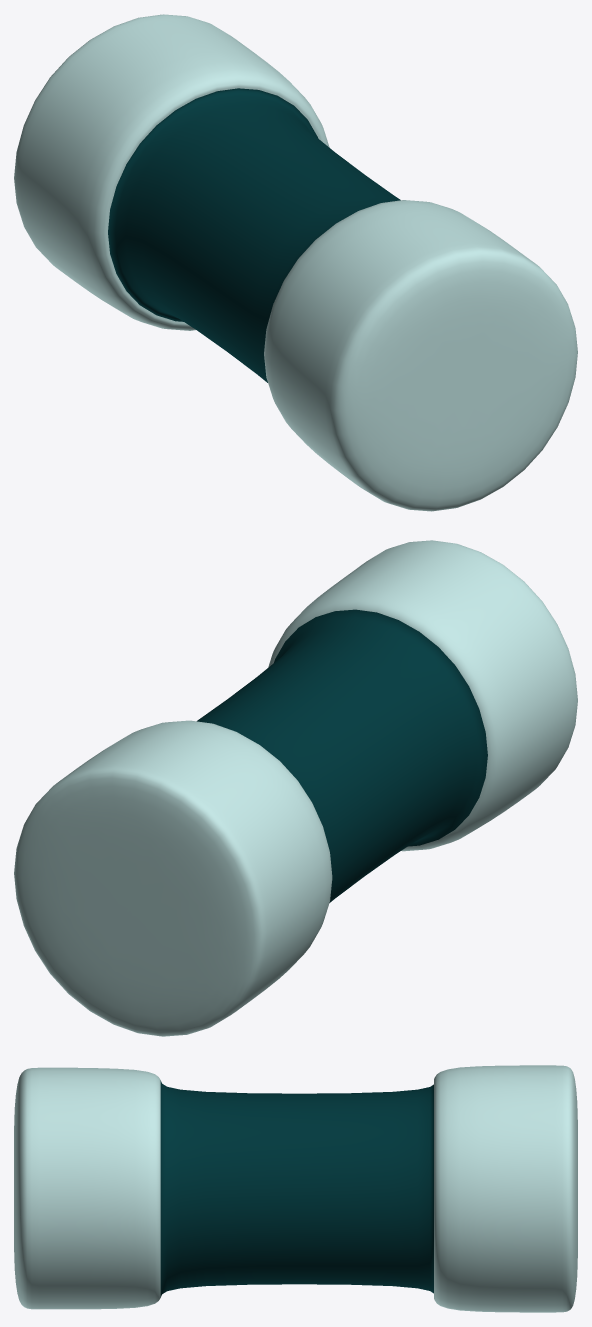
Rendered from robot_06.fbx.
3 views of the same model, one above another, from view 1: azimuth 30°, elevation 25°; view 2: azimuth 150°, elevation 25°; view 3: azimuth 270°, elevation 25° (orthographic). The views are drawn at different scales.
Parts seen in each view (by area): view 1: pCylinder11; view 2: pCylinder11; view 3: pCylinder11.
Part boxes in pixels (x1,y1,x2,y2): pCylinder11: (14, 14, 577, 511); pCylinder11: (14, 540, 577, 1036); pCylinder11: (14, 1065, 577, 1312).
Size of the model in its own units: 1.78 by 1.78 by 4.05.
